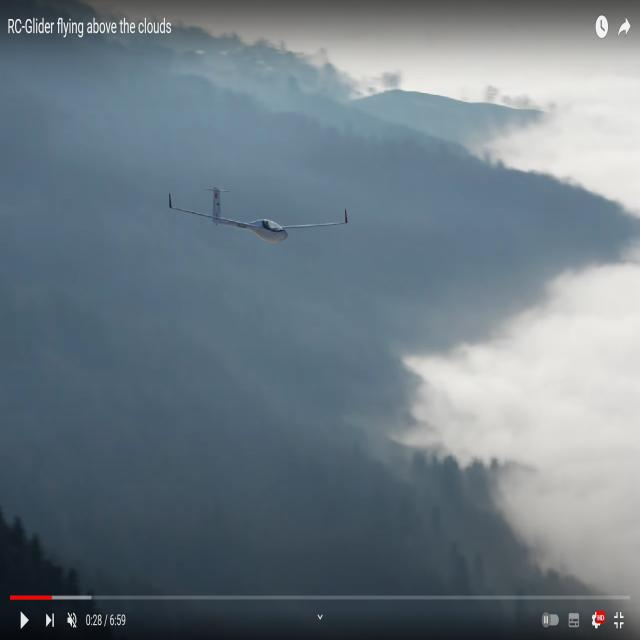iha: (167, 188, 345, 245)
